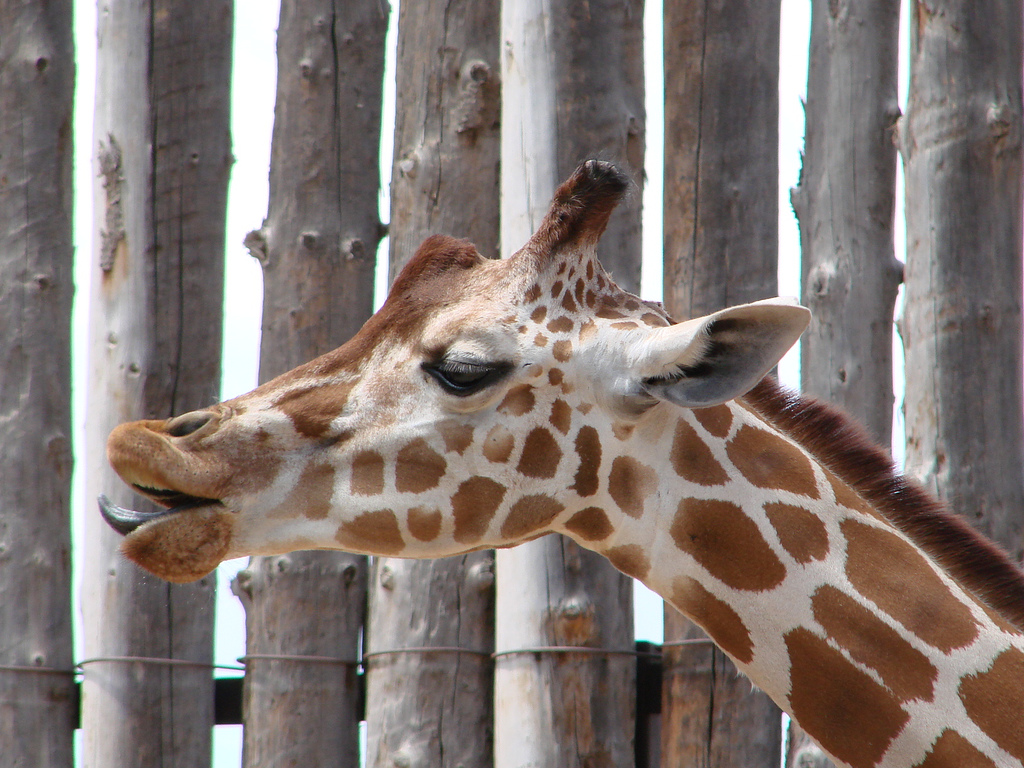giraffe: (70, 175, 995, 682)
